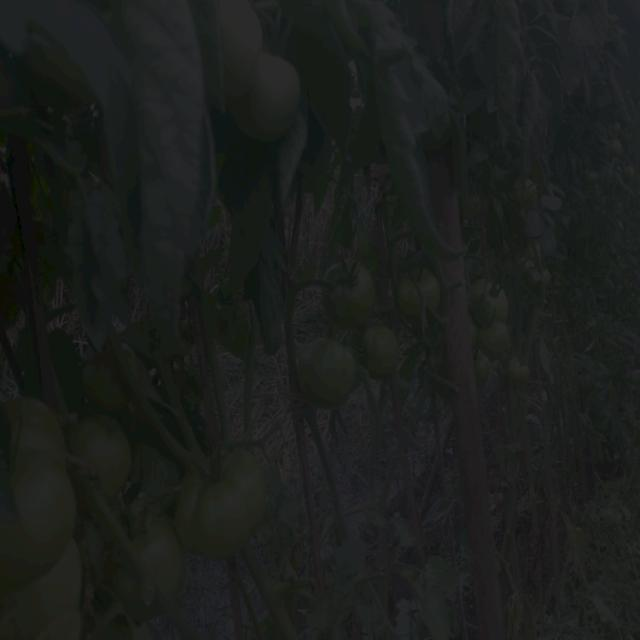tomato: (171, 444, 270, 552), (4, 445, 75, 589), (12, 543, 84, 640), (216, 1, 270, 109), (240, 59, 305, 146), (75, 410, 132, 501), (1, 398, 68, 466), (319, 260, 379, 334), (298, 334, 357, 400), (139, 517, 184, 594), (351, 323, 404, 378), (402, 270, 444, 320), (481, 285, 520, 325), (476, 317, 511, 359), (502, 353, 529, 383), (517, 174, 540, 204), (603, 135, 626, 161), (533, 266, 559, 286), (582, 168, 603, 189), (617, 171, 640, 189), (525, 239, 544, 257)
